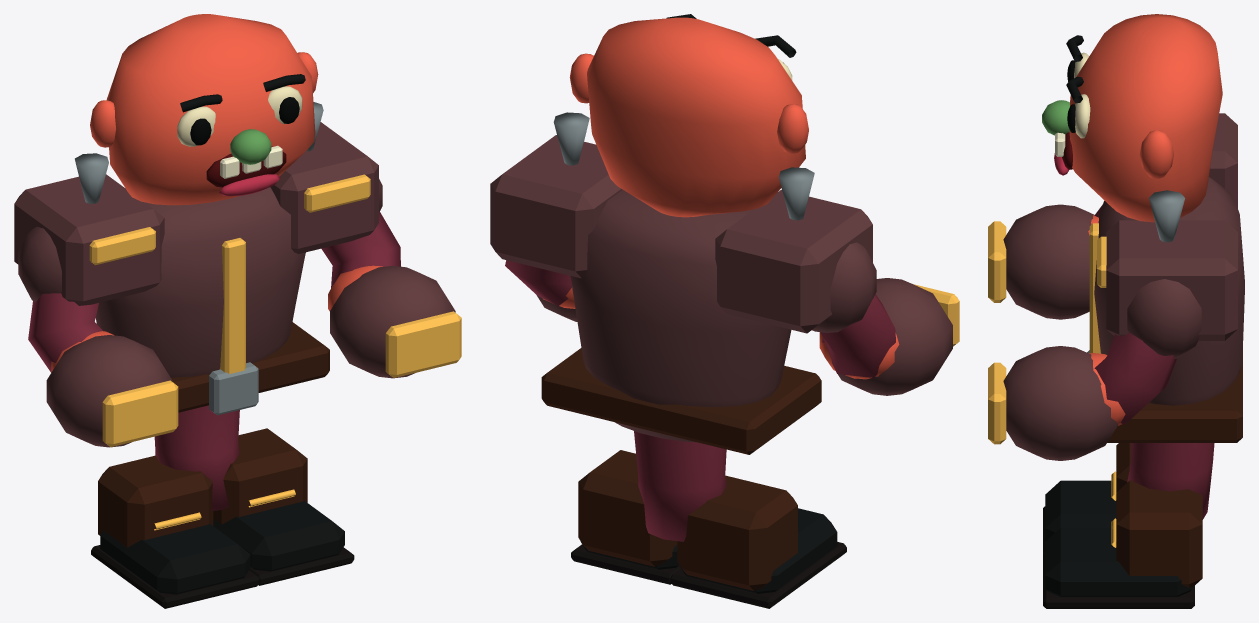
Rendered from elite.glb.
3 renders of one model, left to right at view 1: azimuth 30°, elevation 25°; view 2: azimuth 150°, elevation 25°; view 3: azimuth 270°, elevation 25°, orthographic. The views are drawn at different scales.
Visible parts, largest first — view 1: Arms, Head, Body, LegL, LegR; view 2: Arms, Body, Head, LegL, LegR; view 3: Arms, Head, LegR, Body, LegL.
Boxes of the visible parts, left/top/right/bottom form: Arms: left=14, top=102, right=461, bottom=447; Head: left=90, top=14, right=318, bottom=205; Body: left=95, top=187, right=329, bottom=415; LegL: left=91, top=405, right=258, bottom=608; LegR: left=213, top=410, right=354, bottom=585; Arms: left=490, top=112, right=959, bottom=395; Body: left=541, top=190, right=821, bottom=454; Head: left=569, top=14, right=808, bottom=217; LegL: left=634, top=431, right=846, bottom=608; LegR: left=571, top=438, right=705, bottom=584; Arms: left=988, top=113, right=1237, bottom=460; Head: left=1042, top=14, right=1222, bottom=222; LegR: left=1043, top=443, right=1213, bottom=608; Body: left=1087, top=177, right=1244, bottom=442; LegL: left=1043, top=443, right=1214, bottom=554.
Size of the model in its own units: 0.9135 by 1.16 by 0.5065.
Materials: 1 (1 with a texture image).
